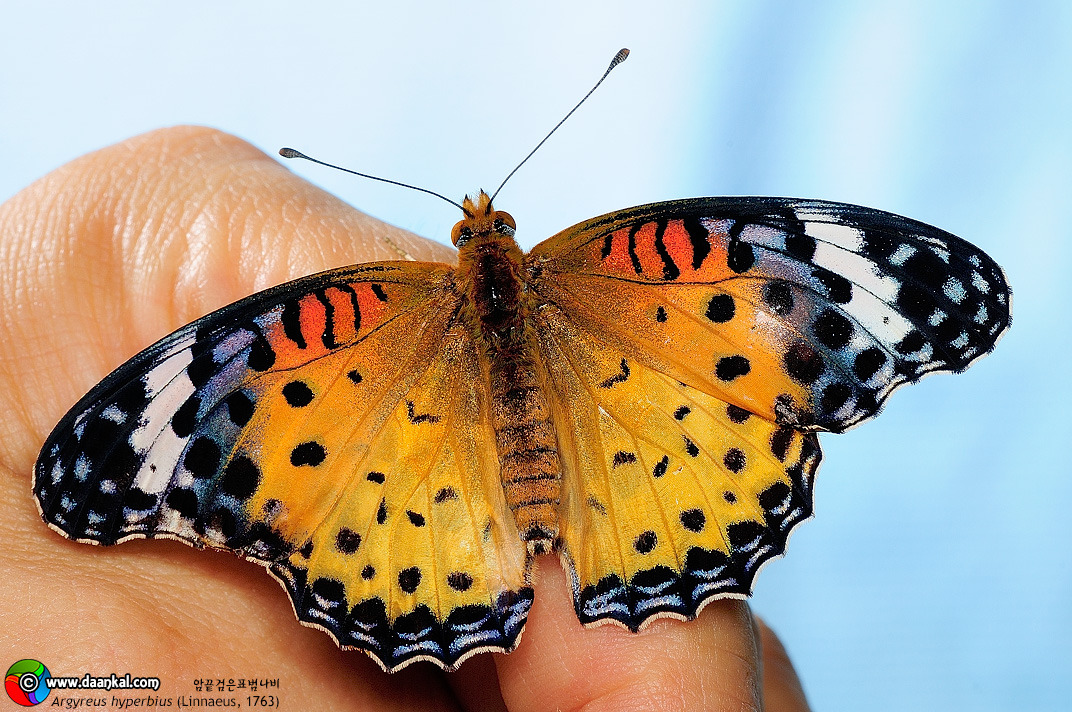Argyreus hyperbius: (31, 40, 1026, 673)
butterfly: (33, 42, 1028, 675)
